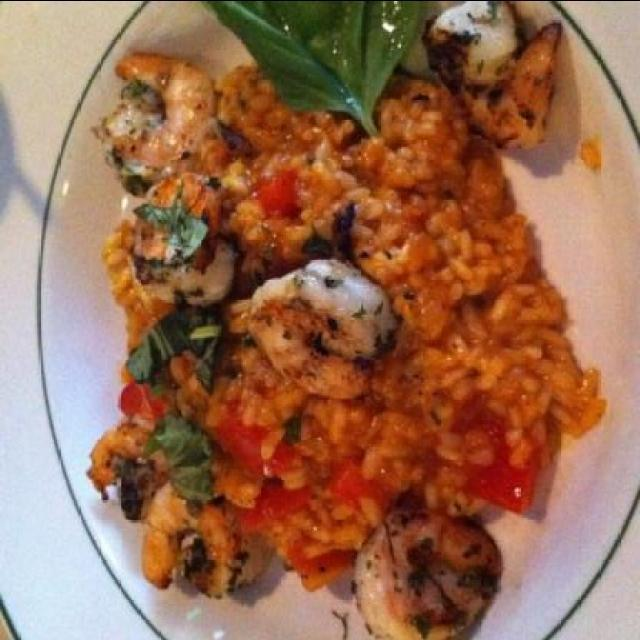Risotto: (121, 42, 584, 588)
